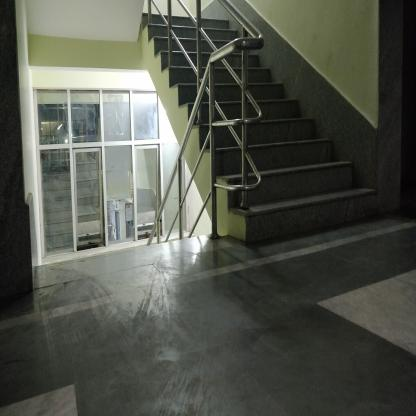stairs: (264, 115, 313, 238)
